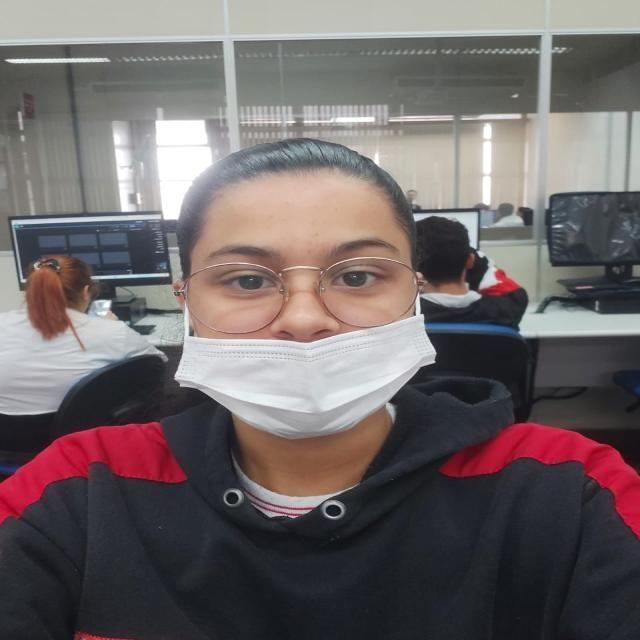hairnet: (180, 184, 420, 427)
